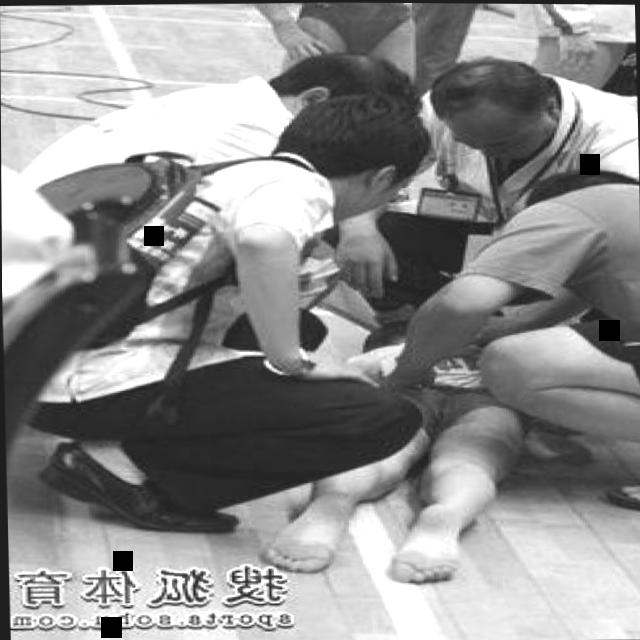Fall-Detected: (258, 286, 548, 595)
